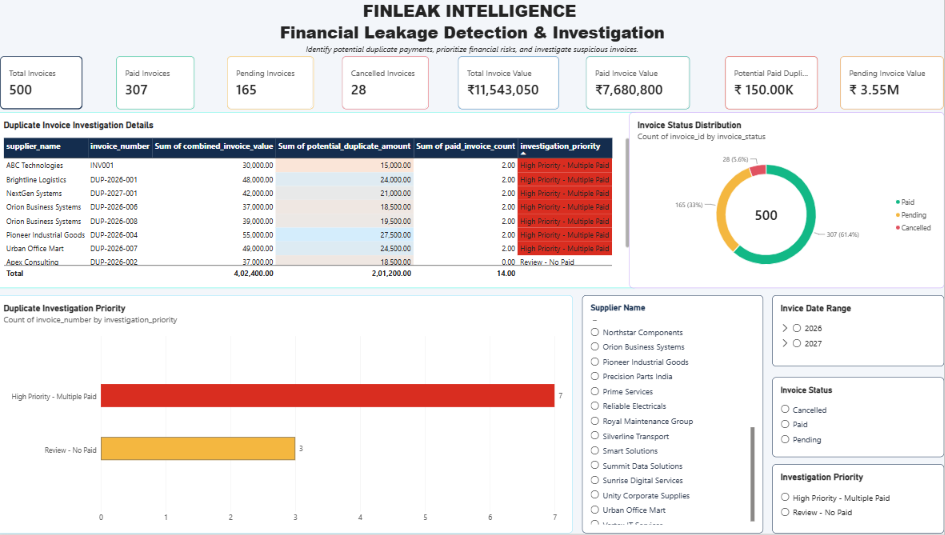

The dashboard page shown, as its layout file describes it:
{"tool":"powerbi","page":{"name":"Page 1","canvas":[1920,1080],"ordinal":0},"visuals":[{"type":"cardVisual","fields":{"Data":["invoices.Total Invoices"]},"box":[10.3,115.3,166.7,107],"z":0},{"type":"cardVisual","fields":{"Data":["invoices.Total Invoice Value Display"]},"box":[936.5,115.3,203.8,107],"z":1},{"type":"cardVisual","fields":{"Data":["invoices.Paid Invoice Value"]},"box":[1195.9,115.3,209.9,107],"z":2},{"type":"cardVisual","fields":{"Data":["invoices.Potential Paid Duplicate Amount"]},"box":[1477.9,115.3,187.3,107],"z":3},{"type":"tableEx","title":"Duplicate Invoice Investigation Details","fields":{"Values":["vw_duplicate_inestigation.supplier_name","vw_duplicate_inestigation.invoice_number","Sum(vw_duplicate_inestigation.combined_invoice_value)","Sum(vw_duplicate_inestigation.potential_duplicate_amount)","Sum(vw_duplicate_inestigation.paid_invoice_count)","vw_duplicate_inestigation.investigation_priority"]},"box":[0,228.7,1301.2,356.2],"z":4},{"type":"donutChart","title":"Invoice Status Distribution","fields":{"Category":["invoices.invoice_status"],"Y":["CountNonNull(invoices.invoice_id)"]},"box":[1283,228.7,637.4,356.2],"z":5},{"type":"textbox","box":[10.3,0,1910.1,168.8],"z":6},{"type":"clusteredBarChart","title":"Duplicate Investigation Priority","fields":{"Category":["vw_duplicate_inestigation.investigation_priority"],"Y":["CountNonNull(vw_duplicate_inestigation.invoice_number)"]},"box":[0,599,1169.1,481.6],"z":7},{"type":"cardVisual","fields":{"Data":["invoices.Pending Invoices"]},"box":[469.3,115.3,175,107],"z":8},{"type":"cardVisual","fields":{"Data":["invoices.Pending Invoice Value"]},"box":[1710.5,115.3,209.9,107],"z":9},{"type":"cardVisual","fields":{"Data":["invoices.Cancelled Invoices"]},"box":[701.9,115.3,175,107],"z":10},{"type":"cardVisual","fields":{"Data":["invoices.Paid Invoices"]},"box":[244.9,115.3,158.5,107],"z":11},{"type":"listSlicer","title":"Supplier Name","fields":{"Values":["suppliers.supplier_name"]},"box":[1187.9,599,366.3,481.6],"z":12},{"type":"listSlicer","title":"Invoice Status","fields":{"Values":["invoices.invoice_status"]},"box":[1572.3,764.9,348.1,161.9],"z":13},{"type":"listSlicer","title":"Invice Date Range","fields":{"Values":["invoices.invoice_date.Variation.Date Hierarchy.Year","invoices.invoice_date.Variation.Date Hierarchy.Quarter","invoices.invoice_date.Variation.Date Hierarchy.Month","invoices.invoice_date.Variation.Date Hierarchy.Day"]},"box":[1572.3,599,348.1,143.7],"z":14},{"type":"listSlicer","title":"Investigation Priority","fields":{"Values":["vw_duplicate_inestigation.investigation_priority"]},"box":[1572.6,940.7,347.9,140],"z":15}]}

Visuals, with their boxes in screenshot pixels (x1, y1, x2, y2), scaled from the page's 1920x1080 canvas onto the 945x535 screenshot:
cardVisual - invoices.Total Invoices: rect(5, 57, 87, 110)
cardVisual - invoices.Total Invoice Value Display: rect(461, 57, 561, 110)
cardVisual - invoices.Paid Invoice Value: rect(589, 57, 692, 110)
cardVisual - invoices.Potential Paid Duplicate Amount: rect(727, 57, 820, 110)
"Duplicate Invoice Investigation Details" tableEx: rect(0, 113, 640, 290)
"Invoice Status Distribution" donutChart: rect(631, 113, 944, 290)
textbox: rect(5, 0, 944, 84)
"Duplicate Investigation Priority" clusteredBarChart: rect(0, 297, 575, 534)
cardVisual - invoices.Pending Invoices: rect(231, 57, 317, 110)
cardVisual - invoices.Pending Invoice Value: rect(842, 57, 944, 110)
cardVisual - invoices.Cancelled Invoices: rect(345, 57, 432, 110)
cardVisual - invoices.Paid Invoices: rect(121, 57, 199, 110)
"Supplier Name" listSlicer: rect(585, 297, 765, 534)
"Invoice Status" listSlicer: rect(774, 379, 944, 459)
"Invice Date Range" listSlicer: rect(774, 297, 944, 368)
"Investigation Priority" listSlicer: rect(774, 466, 944, 534)
